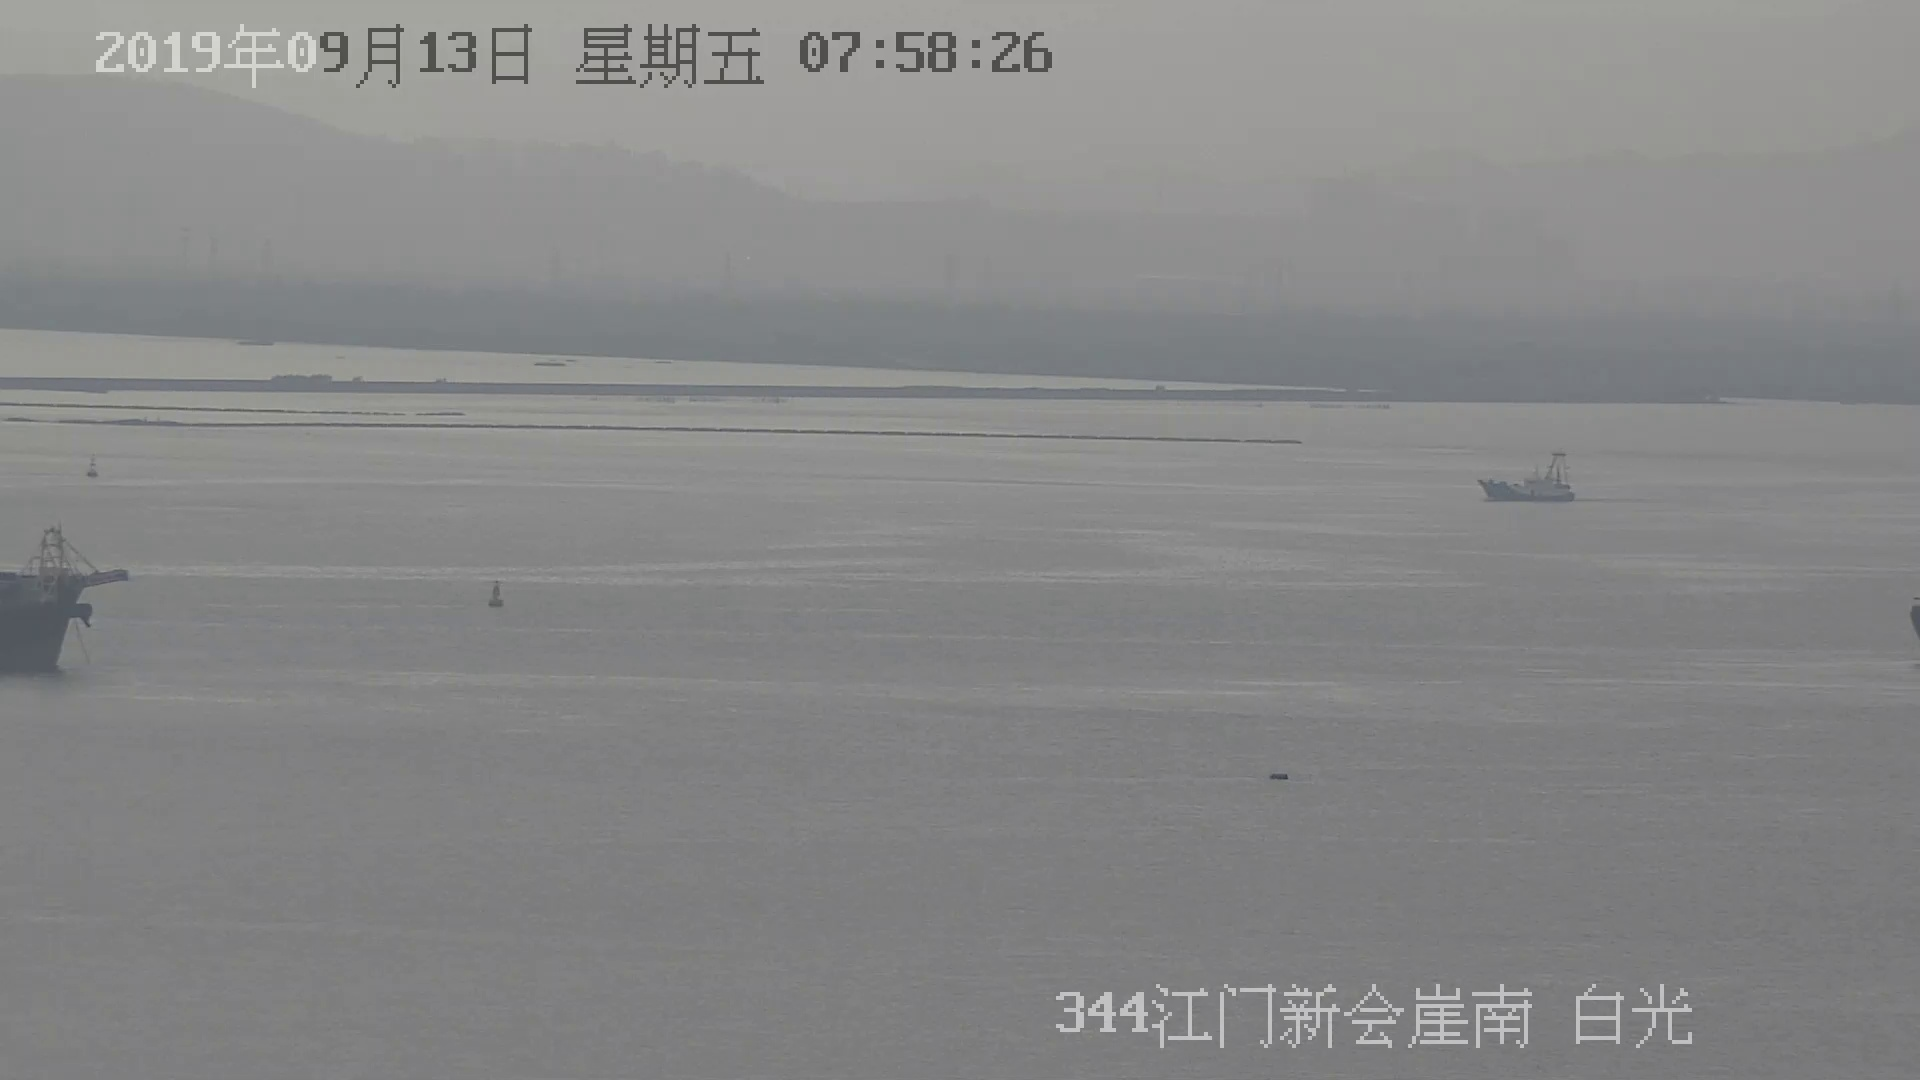ship: (1476, 454, 1575, 502)
